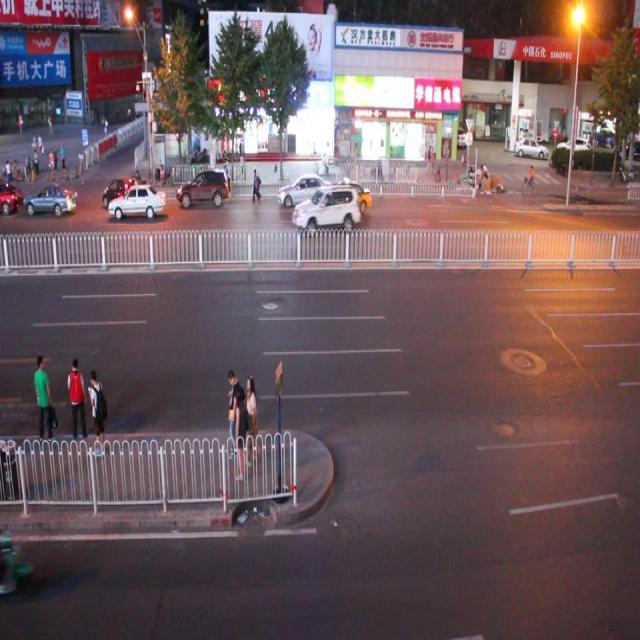car: (293, 186, 358, 231), (107, 184, 164, 219), (177, 168, 230, 205), (23, 182, 77, 217), (278, 173, 332, 206), (320, 181, 370, 214), (103, 175, 136, 208), (1, 180, 20, 215)
